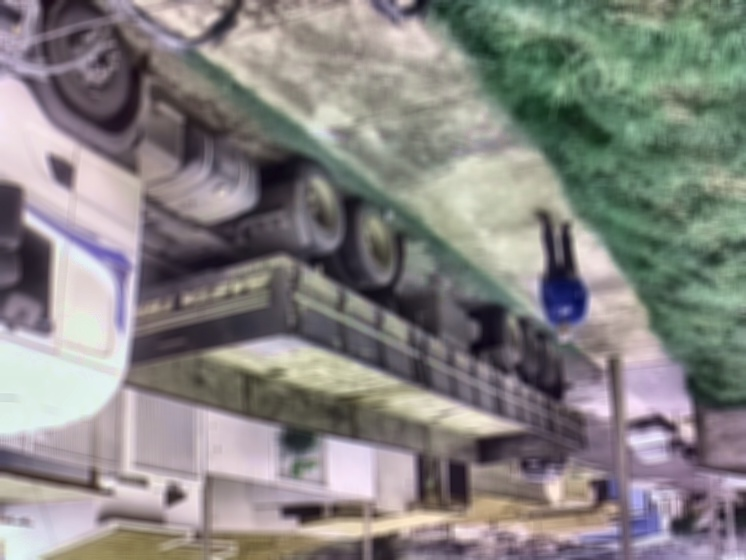person: (526, 210, 590, 346)
